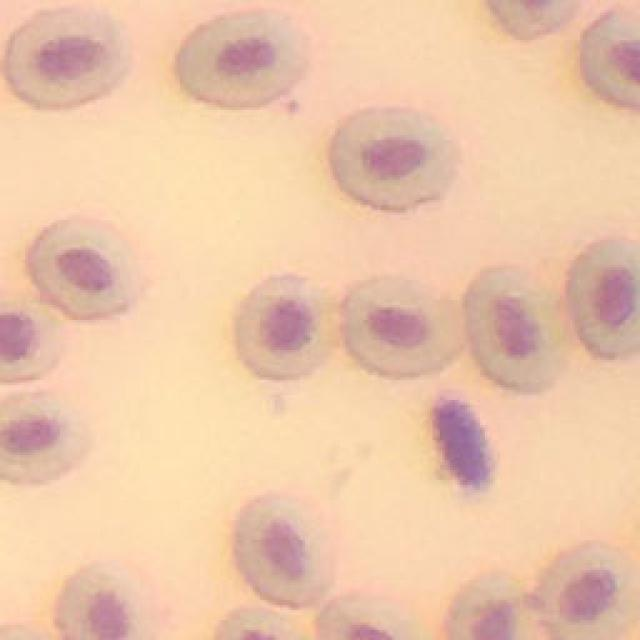RBC: (178, 10, 308, 108), (6, 6, 130, 108), (341, 277, 466, 378), (464, 265, 562, 392), (332, 108, 452, 210), (28, 218, 142, 320), (233, 498, 335, 608), (236, 275, 332, 381), (538, 548, 630, 640), (0, 392, 88, 485), (570, 242, 640, 358), (58, 565, 155, 640), (582, 12, 640, 108), (0, 302, 63, 383), (448, 578, 525, 640), (320, 600, 412, 640)
WBC: (435, 394, 495, 490)
